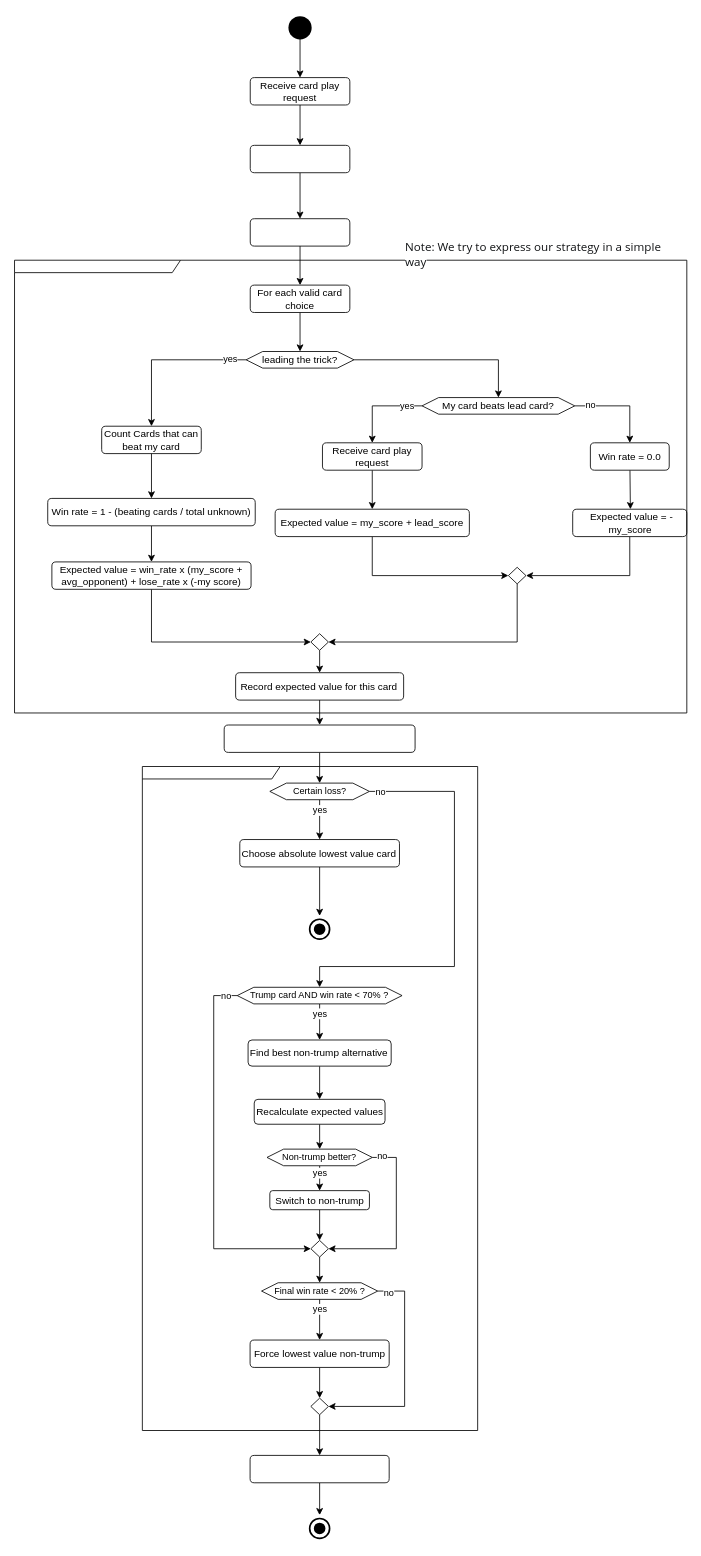
This 701x1556 diagram has some shape labels left out. The shapes that lost their labels are listed below. From the top down, each one's centre as x and y in pixels, then its label:
point 299,159: Get hand cards and discard pile info
point 299,232: Calculate unknown card distribution
point 350,486: Bayesian Probability Calculation
point 319,738: Select card with highest expected value
point 310,1098: Heuristic Rule Refinement
point 319,1469: Output final card choice
